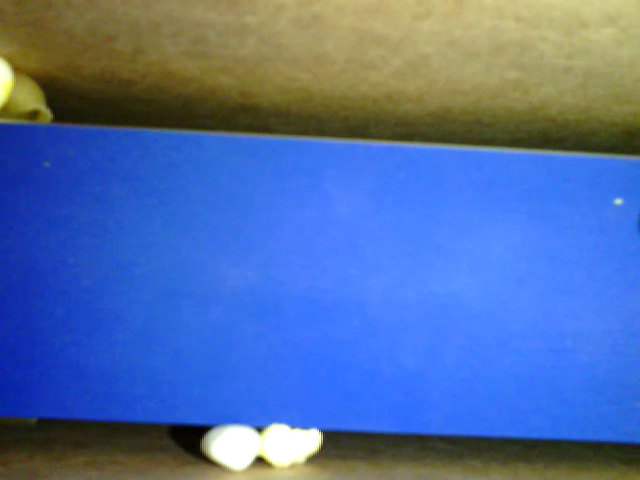shell: (3, 65, 54, 129)
